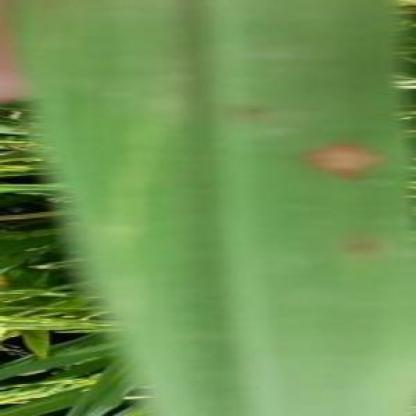Rice blast: (302, 134, 389, 187)
